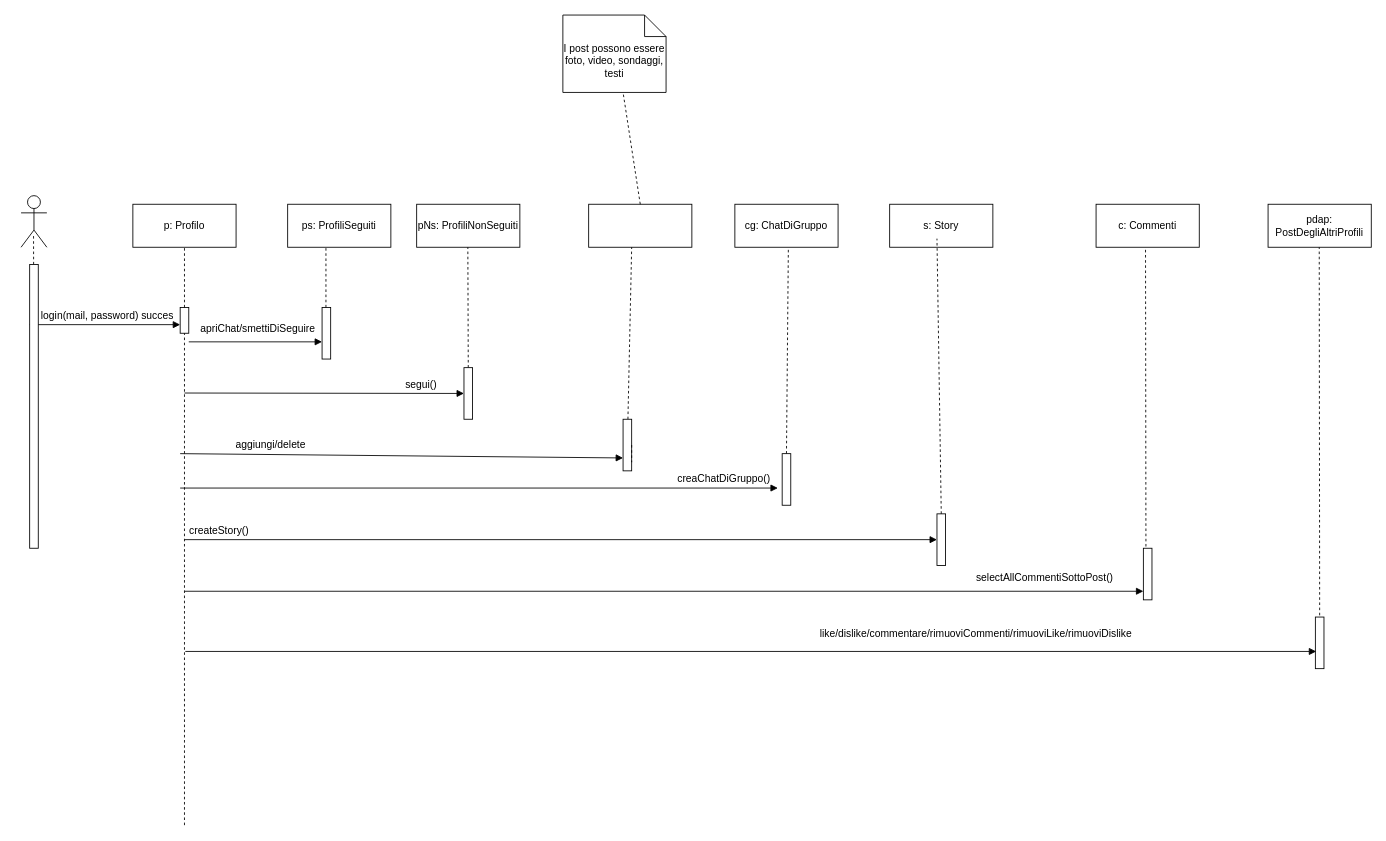
This 1386x841 diagram has some shape labels left out. Here are the shapes that lost their labels. From the top down, the centre of each, then its label:
At point 33,221: "u.Utente".
At point 640,225: "p. Posti".
